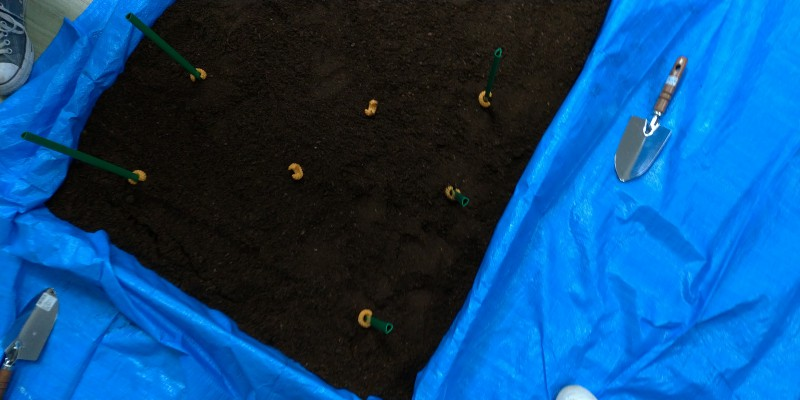eggs: (123, 165, 150, 188), (284, 159, 306, 184), (475, 88, 497, 112), (355, 304, 375, 330), (443, 180, 463, 201), (360, 95, 379, 117), (188, 65, 208, 85)
